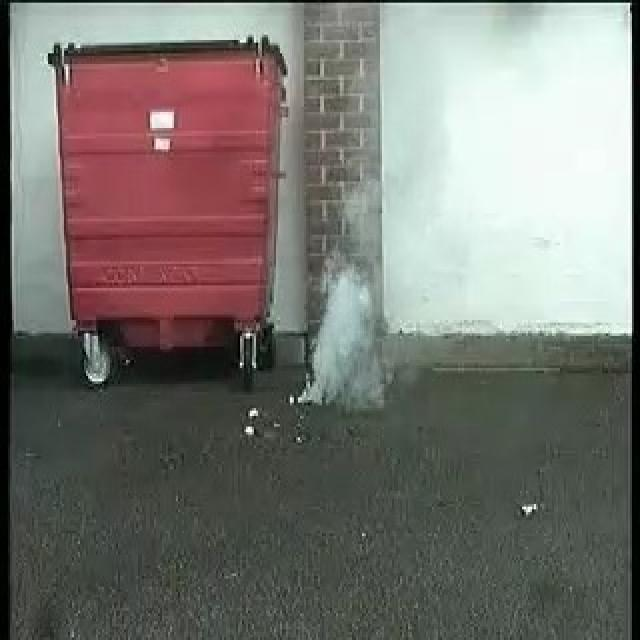smoke: (290, 247, 386, 410)
